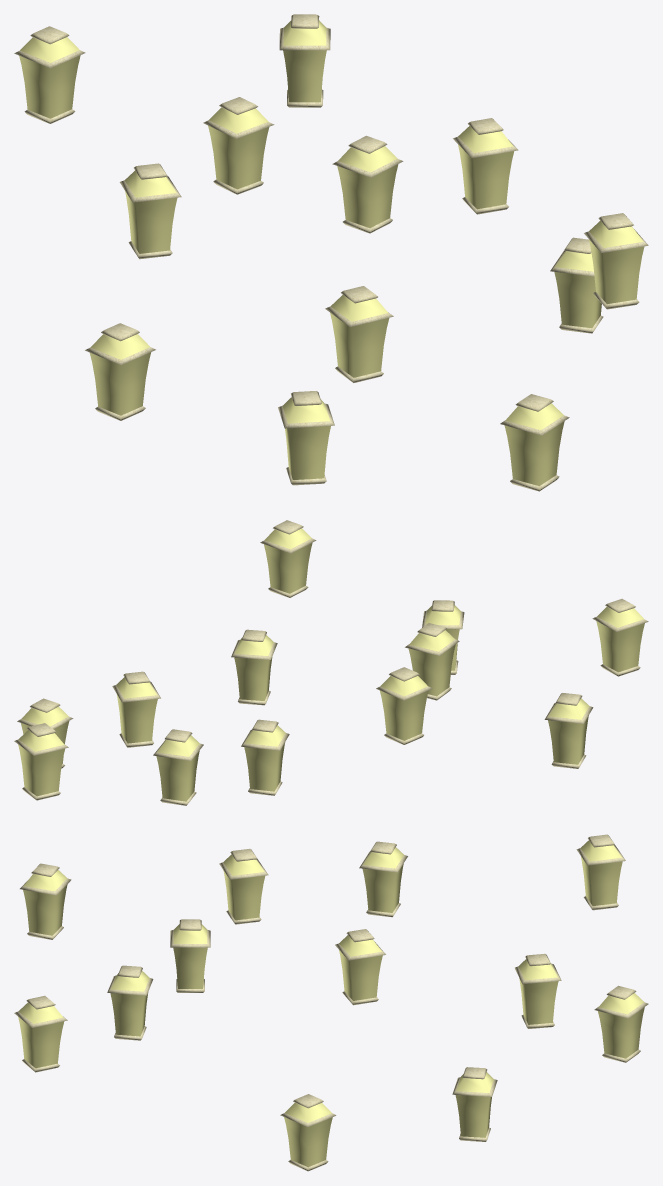
The model's file is LanternRiteTest.fbx.
3 renders of one model, top to bottom at view 1: azimuth 30°, elevation 25°; view 2: azimuth 150°, elevation 25°; view 3: azimuth 270°, elevation 25°, orthographic. The views are drawn at different scales.
Visible parts, largest first — view 1: Circle.001, Circle.000; view 2: Circle.001, Circle.000; view 3: Circle.001, Circle.000.
Part boxes in pixels (box(x1,y1,x2,y2)): Circle.001: box(19, 20, 644, 486); Circle.000: box(14, 14, 648, 491); Circle.001: box(18, 528, 644, 801); Circle.000: box(14, 520, 648, 805); Circle.001: box(18, 840, 644, 1167); Circle.000: box(14, 834, 648, 1171).
Bounding box in the file's own units: 319123 × 130659 × 393727.
Materials: 2 (2 with a texture image).
